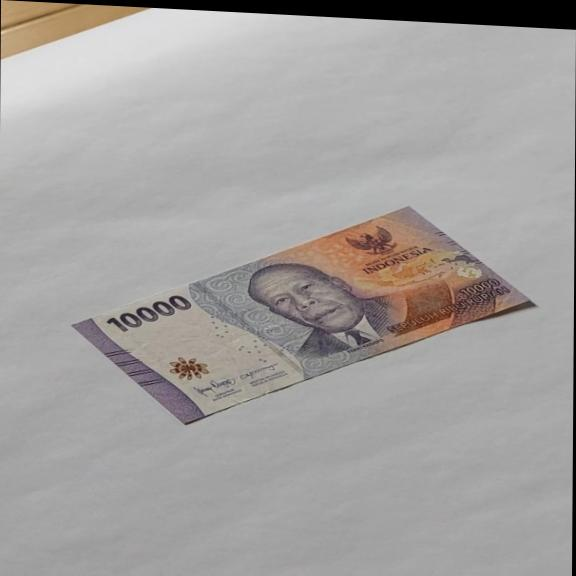Kertas: (70, 188, 539, 444), (104, 291, 192, 336)
